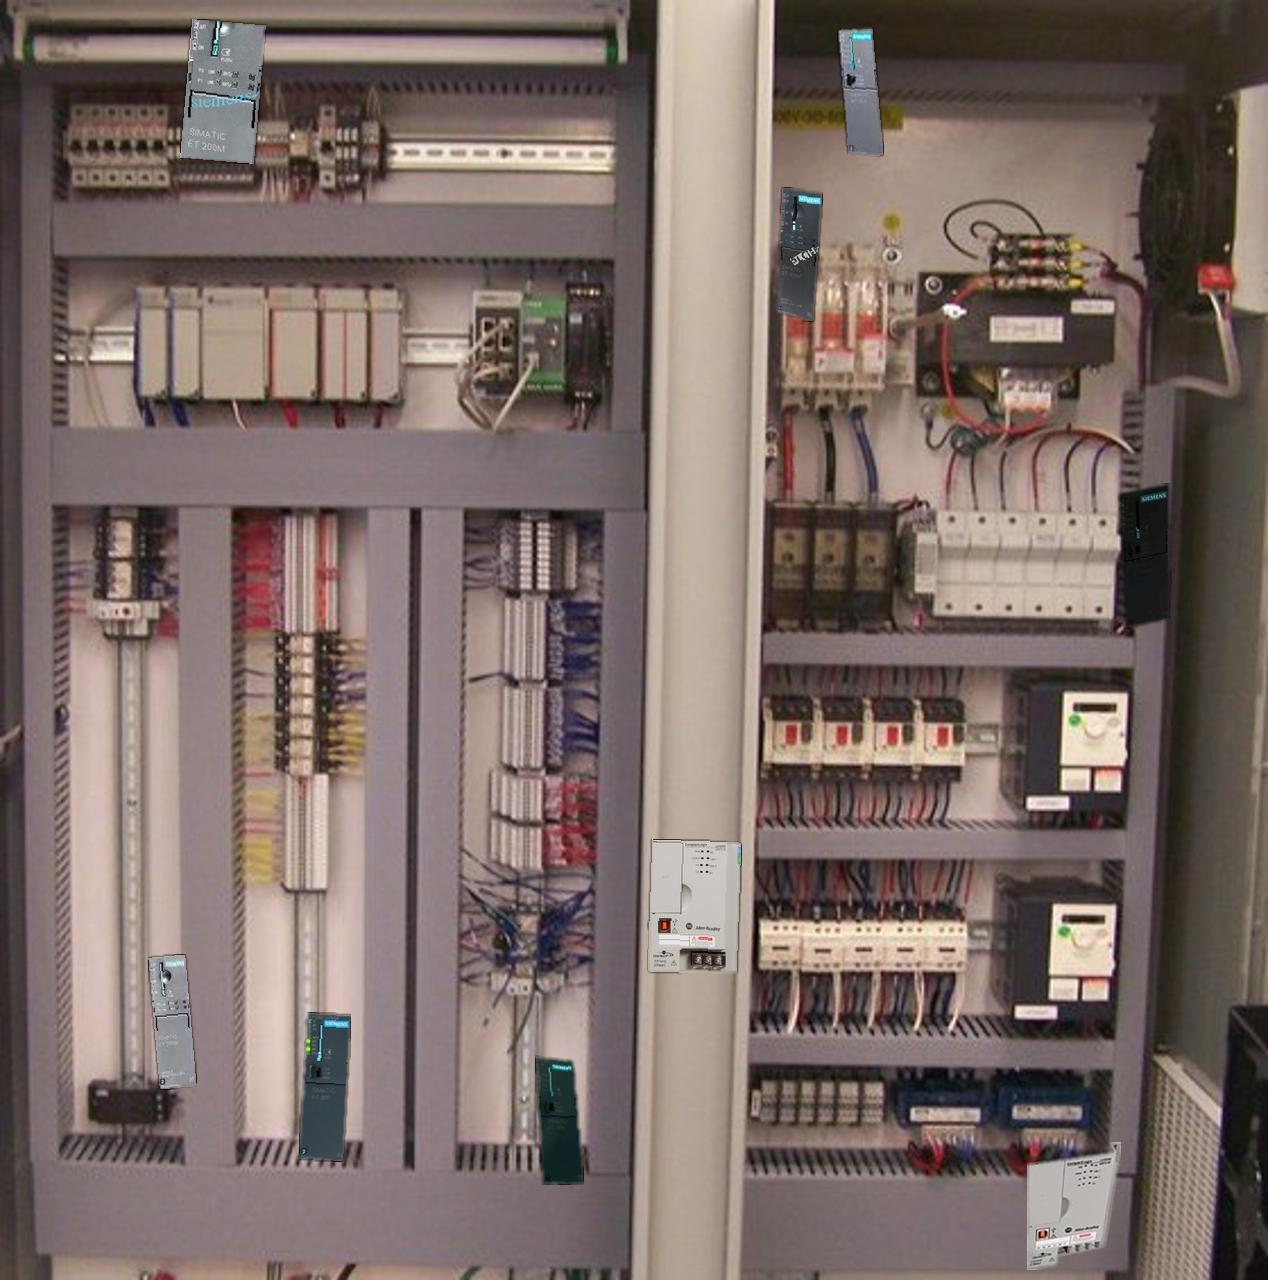AllenBradley: (649, 839, 740, 972), (1026, 1142, 1121, 1270)
Siemens: (298, 1013, 350, 1160), (1119, 484, 1169, 627), (536, 1057, 582, 1182), (838, 29, 882, 154)
